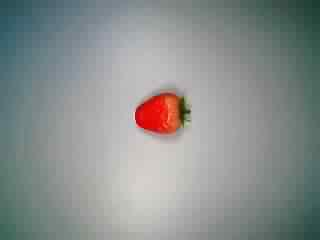strawberry: (128, 80, 196, 144)
